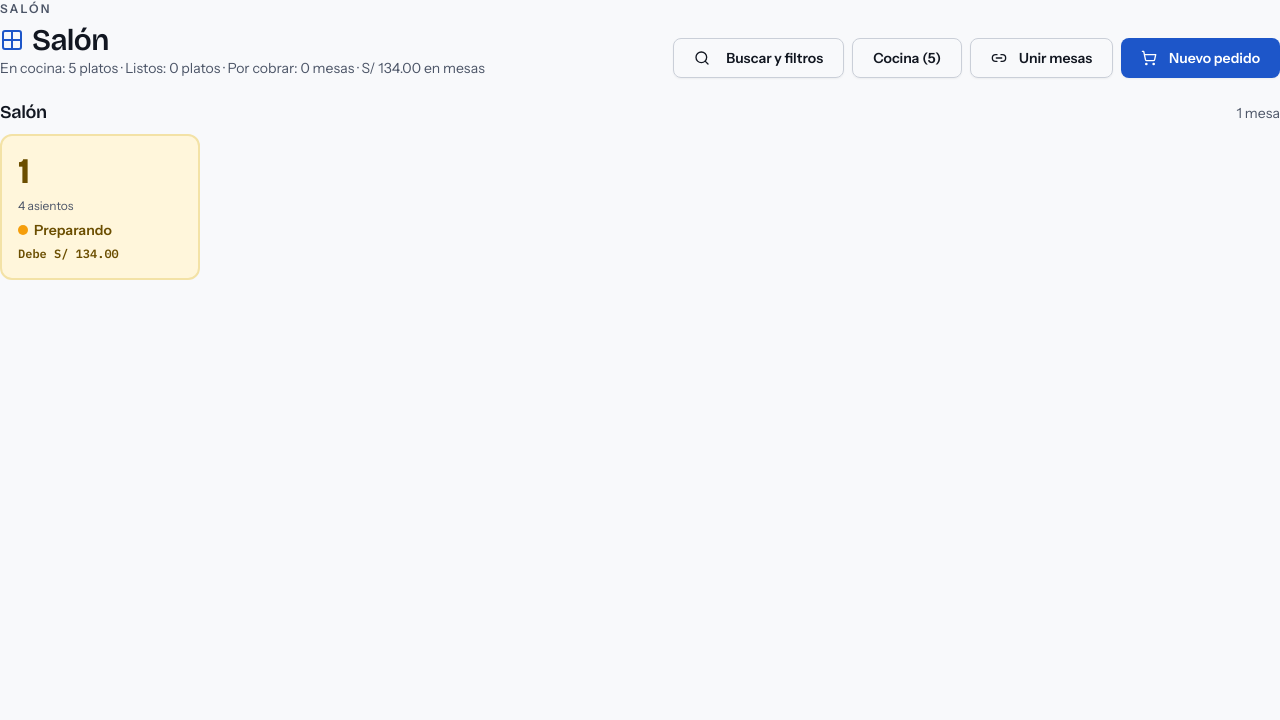
pedido inline en el salón › resume los platos de todas las cuentas de la mesa
Click the element with test id "mesa-card-1".
click(100, 207)  # box x1=0 y1=134 x2=200 y2=280
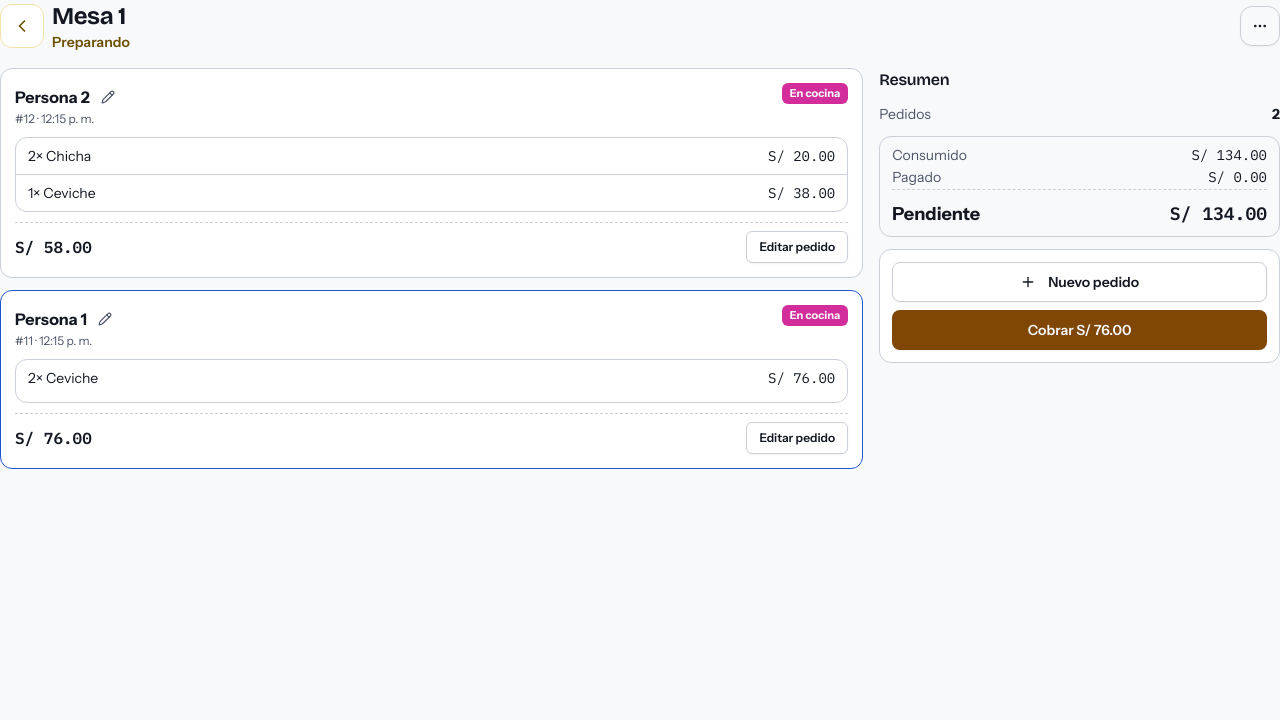
Click the button with test id "mesa-sheet-mas".
click(1260, 26)  # box x1=1240 y1=6 x2=1279 y2=46
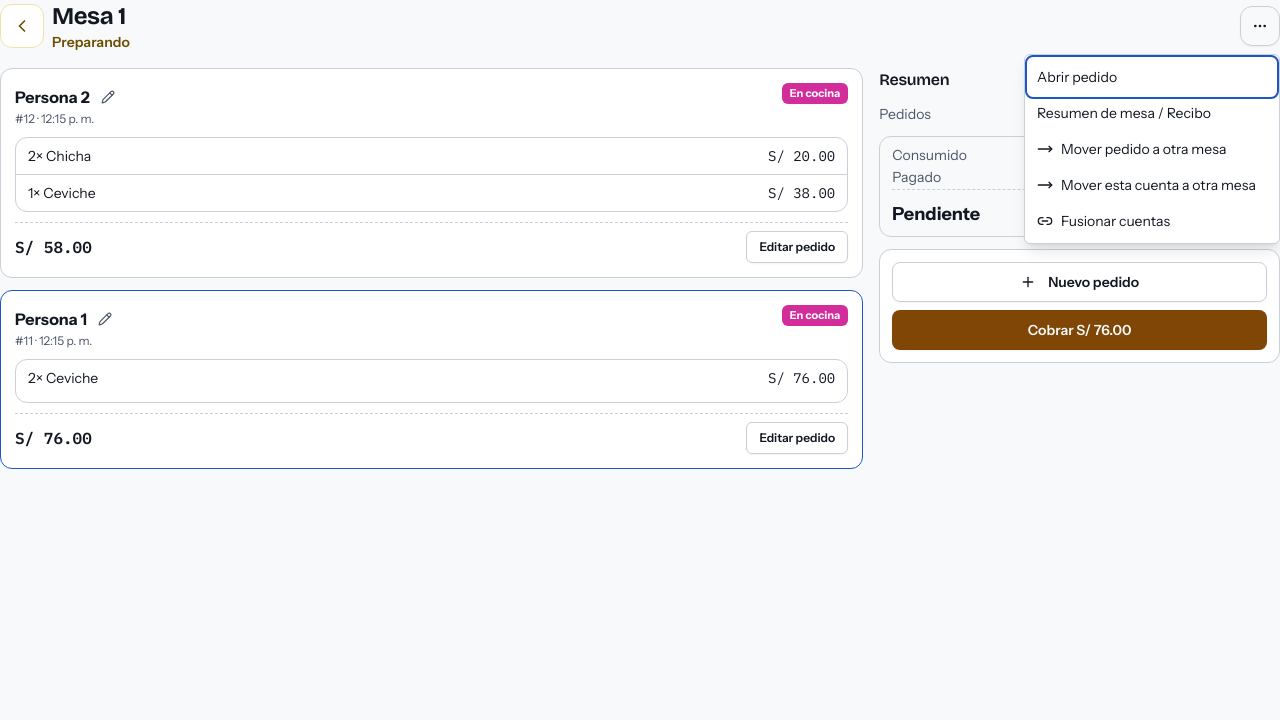
Click the menu item with test id "mesa-sheet-ver-resumen".
click(1152, 113)  # box x1=1029 y1=95 x2=1275 y2=131
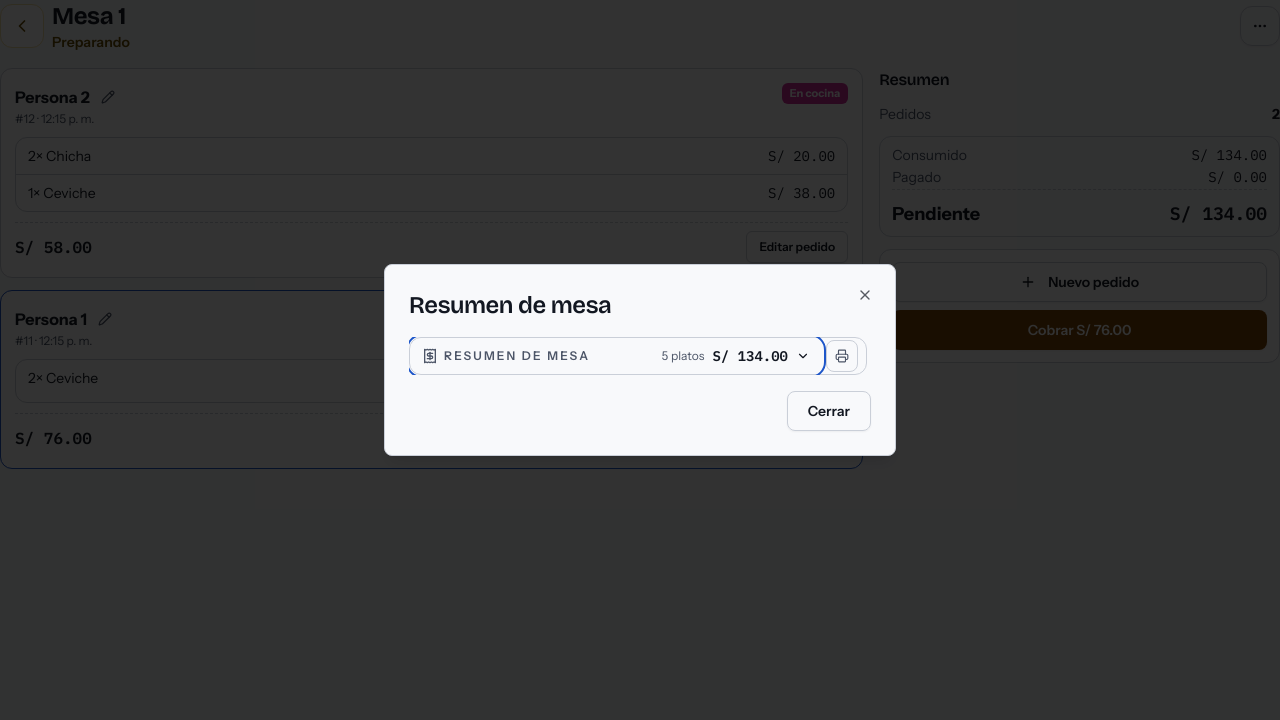
Now the element with test id "mesa-sheet-resumen" is shown, box x1=409 y1=337 x2=867 y2=375
Now the element with test id "mesa-sheet-resumen" shows "134.00"
Click the button with test id "mesa-sheet-resumen-toggle".
click(517, 356)  # box x1=410 y1=338 x2=822 y2=374
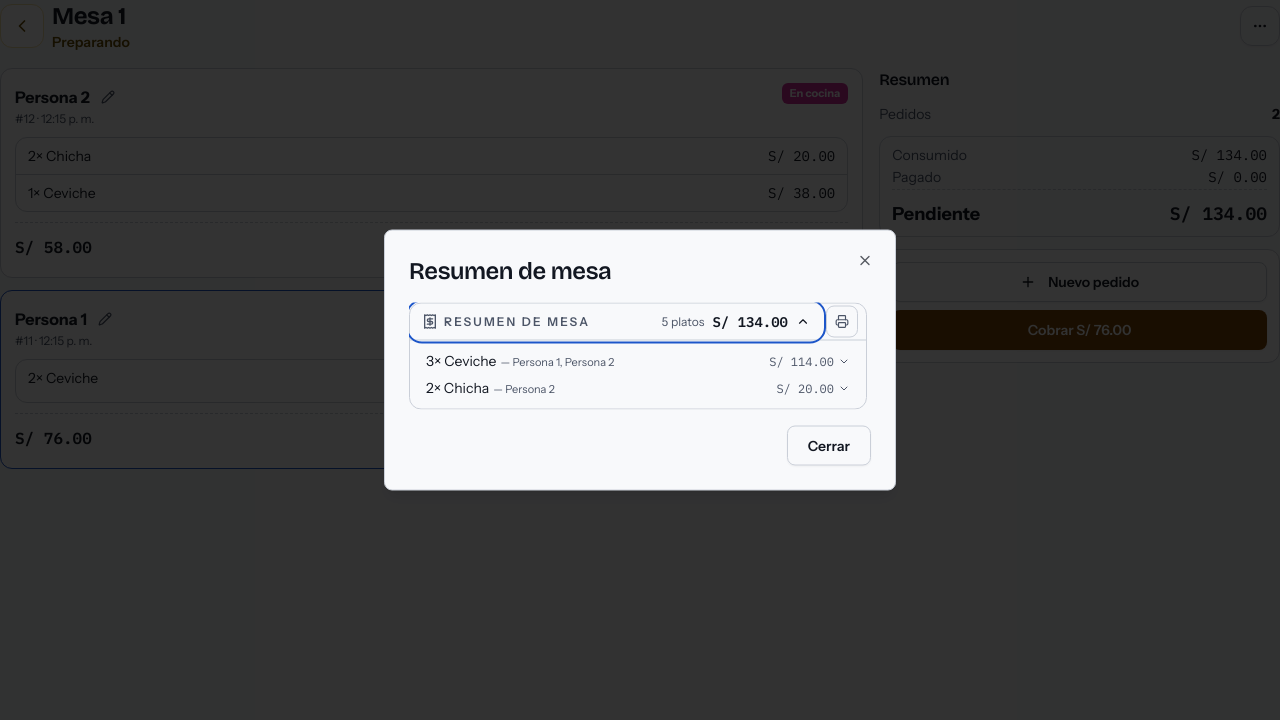
Now the element with test id "mesa-sheet-resumen" shows "3× Ceviche", box x1=422 y1=348 x2=854 y2=374
Now the element with test id "mesa-sheet-resumen" shows "2× Chicha", box x1=422 y1=376 x2=854 y2=400
